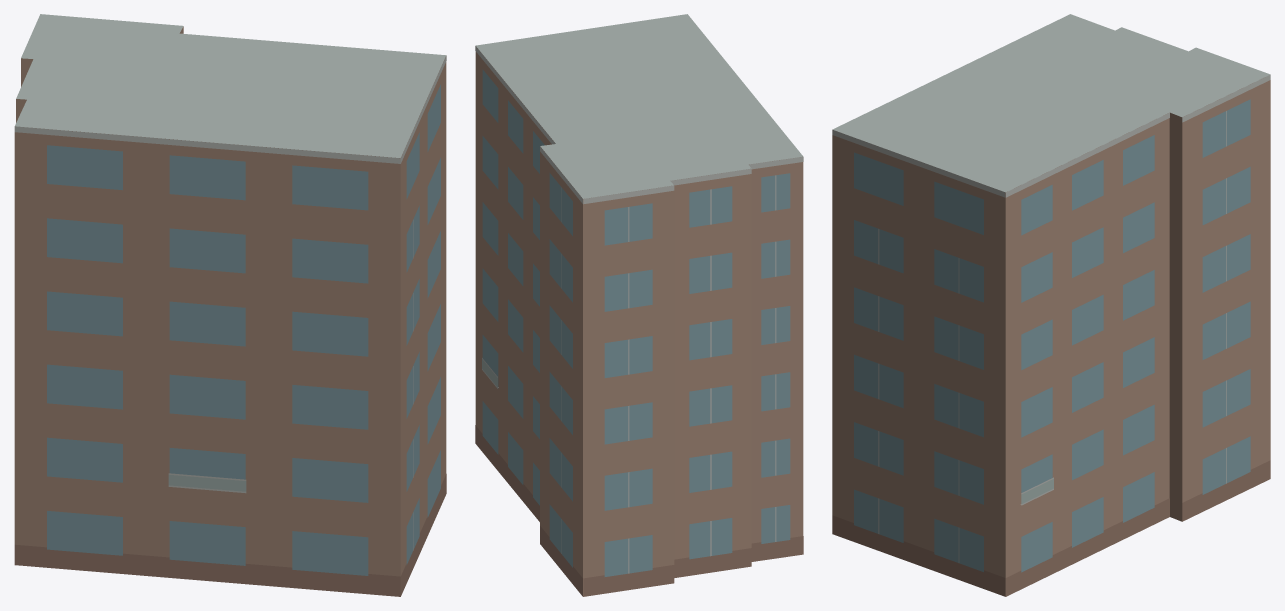
Rendered from survey-upis-32545275.glb.
The picture shows the model from 3 angles, left to right: view 1: azimuth 30°, elevation 25°; view 2: azimuth 150°, elevation 25°; view 3: azimuth 270°, elevation 25°; orthographic projection. The views are drawn at different scales.
Parts seen in each view (by area): view 1: survey-upis-32545275.tmp; view 2: survey-upis-32545275.tmp; view 3: survey-upis-32545275.tmp.
Boxes of the visible parts, x1,y1,x2,y2 form: survey-upis-32545275.tmp: (14,14,446,596); survey-upis-32545275.tmp: (475,14,803,596); survey-upis-32545275.tmp: (832,14,1270,596).
Bounding box in the file's own units: 17.32 × 18.3 × 17.99.
